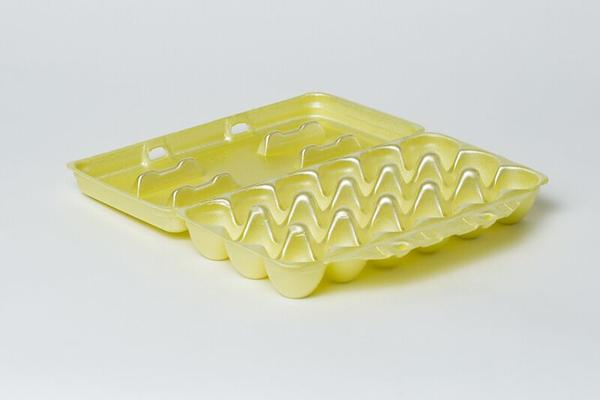Nonrec_Plastic: (53, 52, 562, 304)
